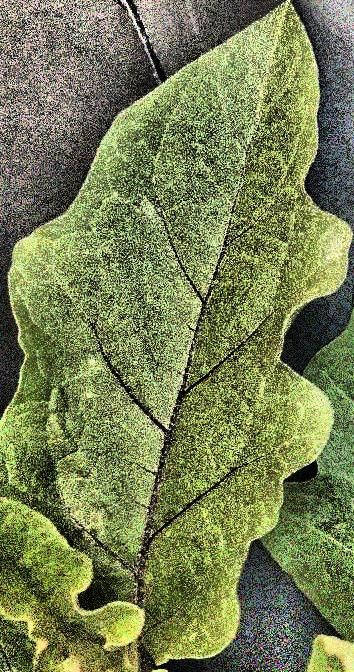HEALTHY: (1, 0, 354, 672)
